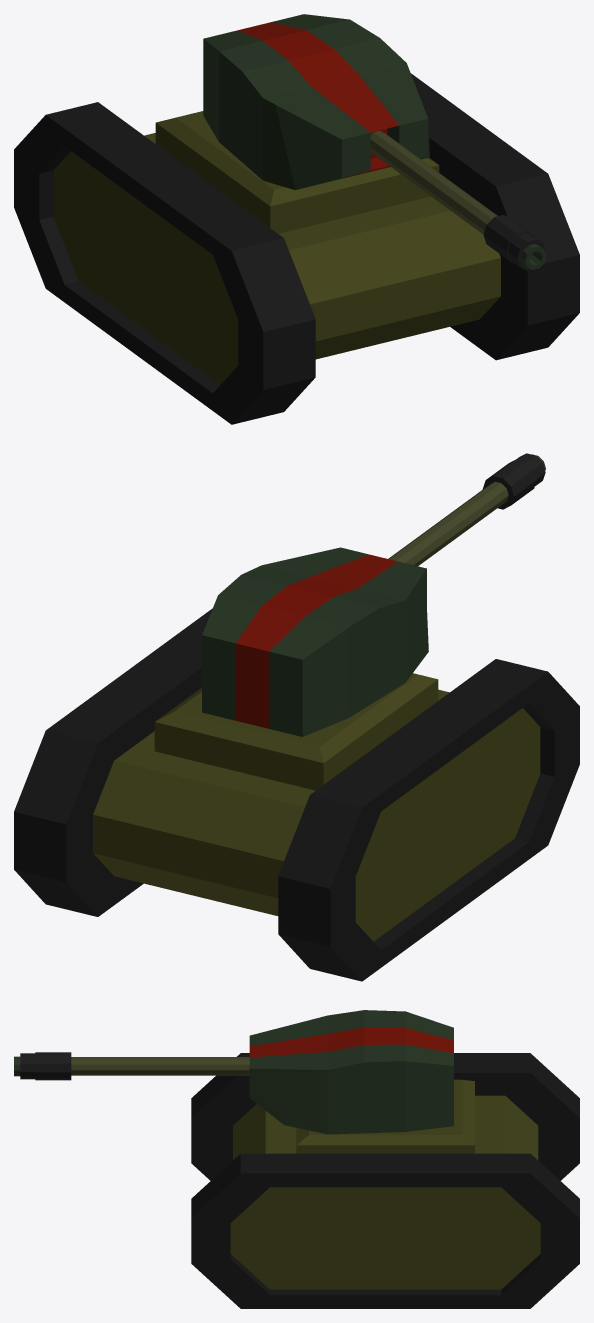
File: Panzer_without_Fehler.fbx
The picture shows the model from 3 angles, top to bottom: view 1: azimuth 30°, elevation 25°; view 2: azimuth 150°, elevation 25°; view 3: azimuth 270°, elevation 25°; orthographic projection. The views are drawn at different scales.
Parts seen in each view (by area): view 1: Panzer, Turret; view 2: Panzer, Turret; view 3: Panzer, Turret.
Part boxes in pixels (box(x1,y1,x2,y2)): Panzer: box(14, 73, 579, 424); Turret: box(203, 14, 546, 270); Panzer: box(14, 608, 579, 981); Turret: box(202, 453, 545, 736); Panzer: box(191, 1053, 579, 1308); Turret: box(14, 1010, 453, 1134).
Bounding box in the file's own units: 360 × 149 × 181.
